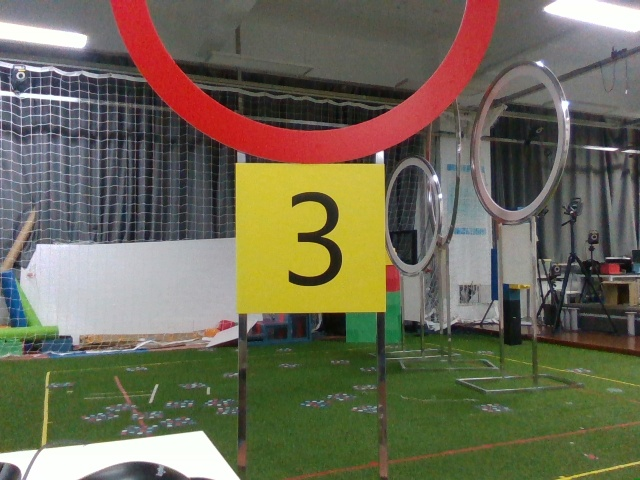target: (238, 165, 383, 308)
